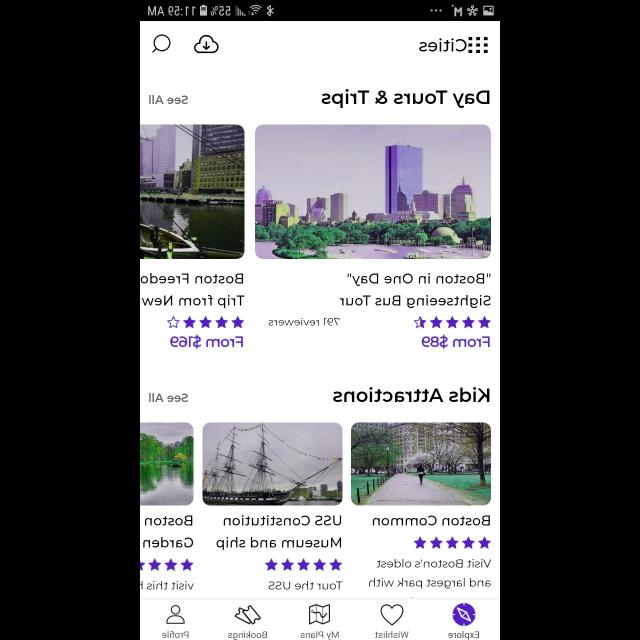icon: (414, 537, 491, 549), (168, 316, 245, 328), (414, 316, 491, 328), (266, 559, 342, 571), (140, 559, 193, 571), (452, 602, 476, 626), (234, 605, 262, 625), (381, 603, 404, 625), (194, 36, 218, 54), (308, 604, 329, 624), (167, 604, 186, 624), (152, 35, 172, 53), (468, 37, 488, 53)
image: (254, 125, 490, 259), (140, 125, 244, 259), (202, 422, 342, 506), (351, 422, 491, 506), (140, 422, 193, 506)
text: (339, 273, 491, 309), (216, 514, 340, 550), (369, 559, 491, 589), (140, 274, 244, 308), (321, 89, 489, 109), (332, 386, 490, 402), (143, 516, 193, 548), (372, 514, 490, 526), (170, 334, 242, 350), (422, 335, 490, 349), (269, 580, 343, 590), (418, 39, 466, 53), (268, 318, 339, 326), (140, 580, 194, 590), (300, 630, 338, 640), (228, 630, 266, 640), (148, 393, 188, 402), (148, 96, 188, 104), (448, 631, 478, 640), (162, 630, 190, 638), (375, 632, 409, 638)
uppertaskbar: (140, 1, 500, 22)
